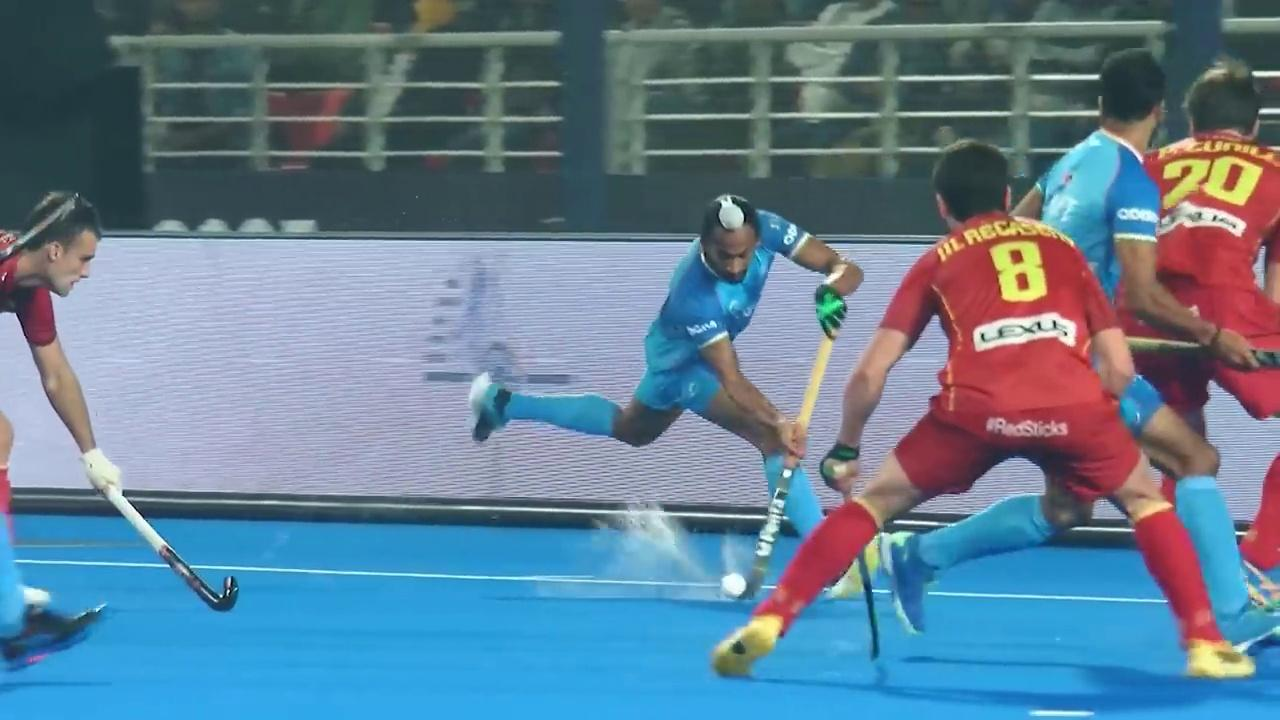ball: (699, 564, 759, 606)
